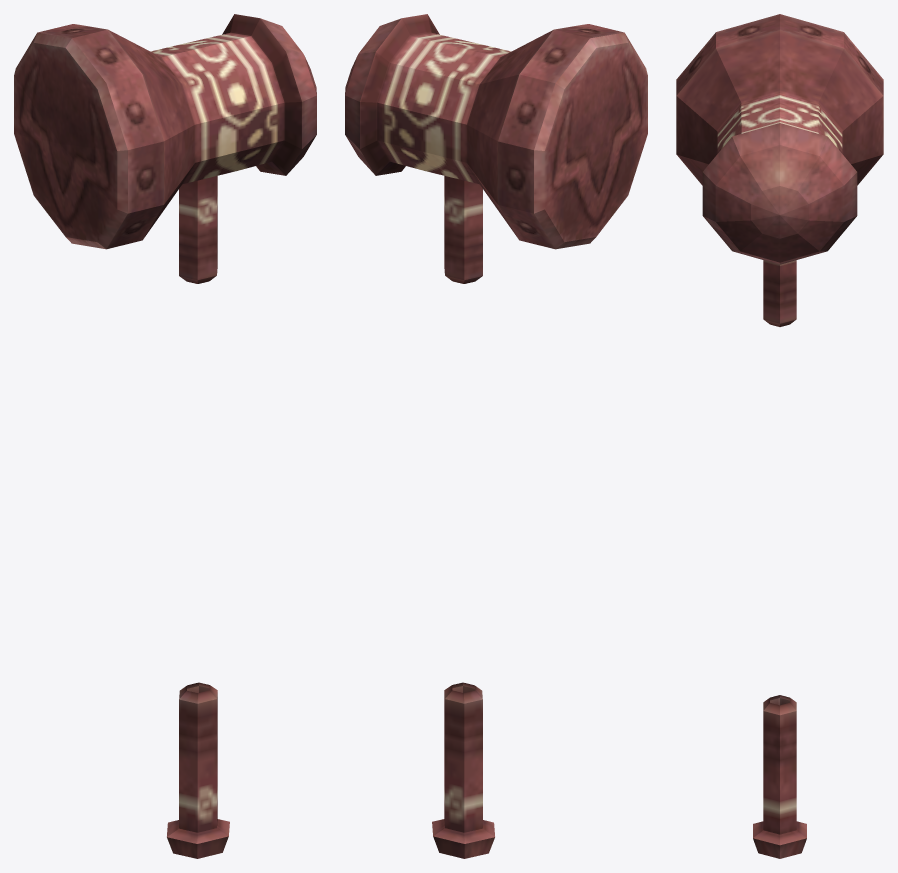
The model's file is Bison_defenderHammer.obj.
3 renders of one model, left to right at view 1: azimuth 30°, elevation 25°; view 2: azimuth 150°, elevation 25°; view 3: azimuth 270°, elevation 25°, orthographic. The views are drawn at different scales.
Visible parts, largest first — view 1: Bison_defenderHammer_tri; view 2: Bison_defenderHammer_tri; view 3: Bison_defenderHammer_tri.
Part boxes in pixels (left/top/right/bottom): Bison_defenderHammer_tri: left=14, top=14, right=316, bottom=858; Bison_defenderHammer_tri: left=345, top=14, right=647, bottom=858; Bison_defenderHammer_tri: left=676, top=14, right=883, bottom=858.
Bounding box in the file's own units: 1.28 × 4.22 × 1.01.
Materials: 1 (1 with a texture image).
